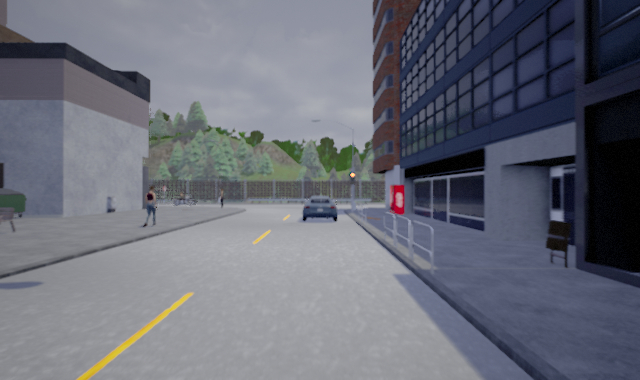pedestrian: (137, 184, 161, 227), (217, 187, 227, 207)
traffic_light: (347, 170, 358, 187)
vehicle: (301, 195, 338, 222)
